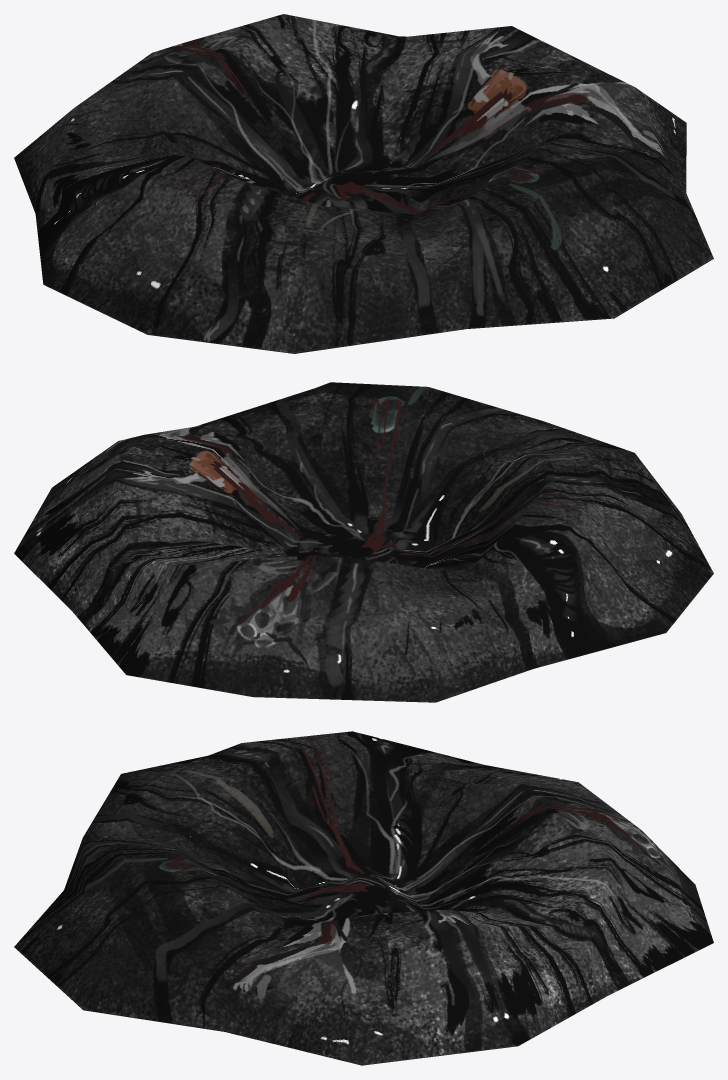
Rendered from Nest_Asset.fbx.
3 views of the same model, one above another, from view 1: azimuth 30°, elevation 25°; view 2: azimuth 150°, elevation 25°; view 3: azimuth 270°, elevation 25° (orthographic). The views are drawn at different scales.
Parts seen in each view (by area): view 1: Nest; view 2: Nest; view 3: Nest.
Boxes of the visible parts, box(x1,y1,x2,y2) form: Nest: box(14, 14, 713, 353); Nest: box(14, 382, 713, 702); Nest: box(14, 731, 713, 1065).
Bounding box in the file's own units: 265 × 259 × 36.1.
Materials: 1 (1 with a texture image).
